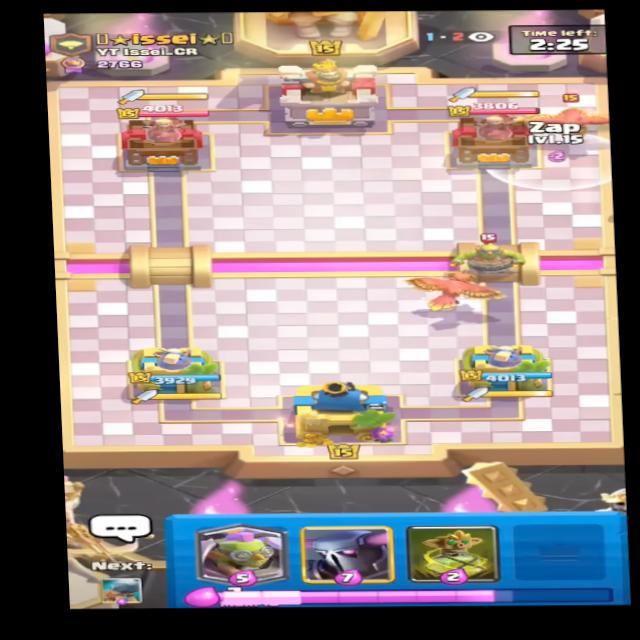goblin-demolisher: (447, 229, 529, 274)
phoenix: (516, 89, 623, 135)
